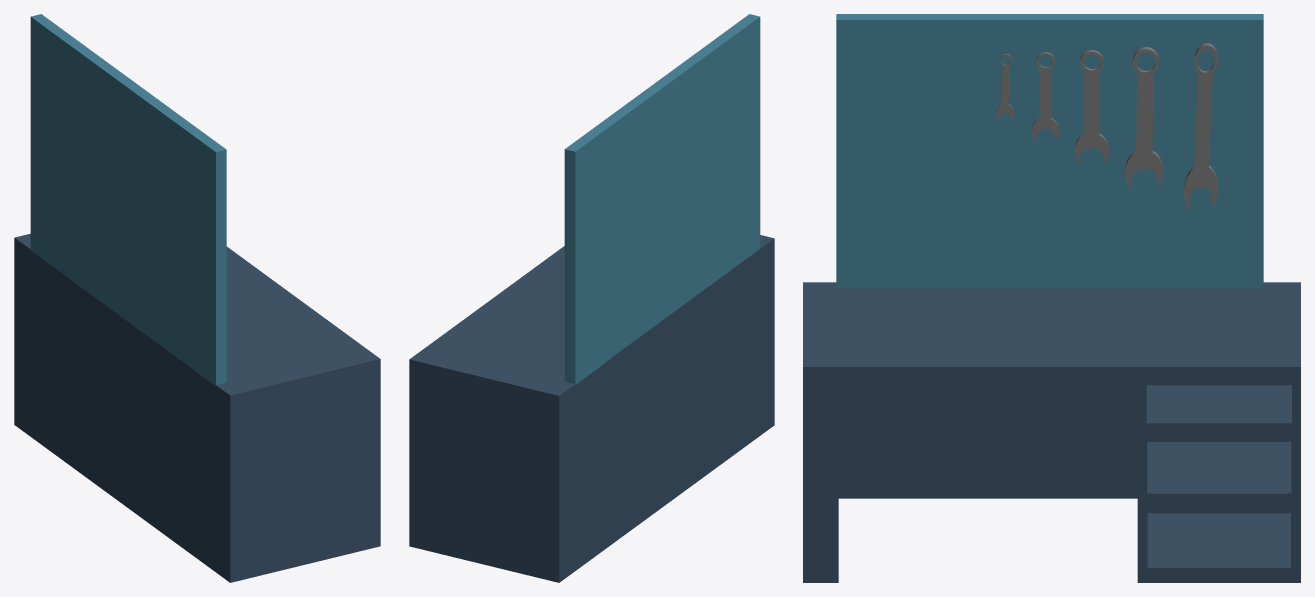
Rendered from WorkBenchBodyFinal.fbx.
3 renders of one model, left to right at view 1: azimuth 30°, elevation 25°; view 2: azimuth 150°, elevation 25°; view 3: azimuth 270°, elevation 25°, orthographic. The views are drawn at different scales.
Parts seen in each view (by area): view 1: Table, ToolShelf; view 2: Table, ToolShelf; view 3: Table, ToolShelf, tool.001, tool, tool.004, tool.002.
Part boxes in pixels (left/top/right/bottom): Table: left=14, top=233, right=380, bottom=582; ToolShelf: left=30, top=14, right=226, bottom=385; Table: left=409, top=235, right=774, bottom=582; ToolShelf: left=564, top=14, right=760, bottom=384; Table: left=803, top=282, right=1300, bottom=582; ToolShelf: left=836, top=14, right=1263, bottom=288; tool.001: left=1184, top=43, right=1217, bottom=210; tool: left=1125, top=47, right=1162, bottom=188; tool.004: left=1074, top=50, right=1108, bottom=163; tool.002: left=1032, top=52, right=1058, bottom=141.
Bounding box in the file's own units: 112 × 300 × 279.
